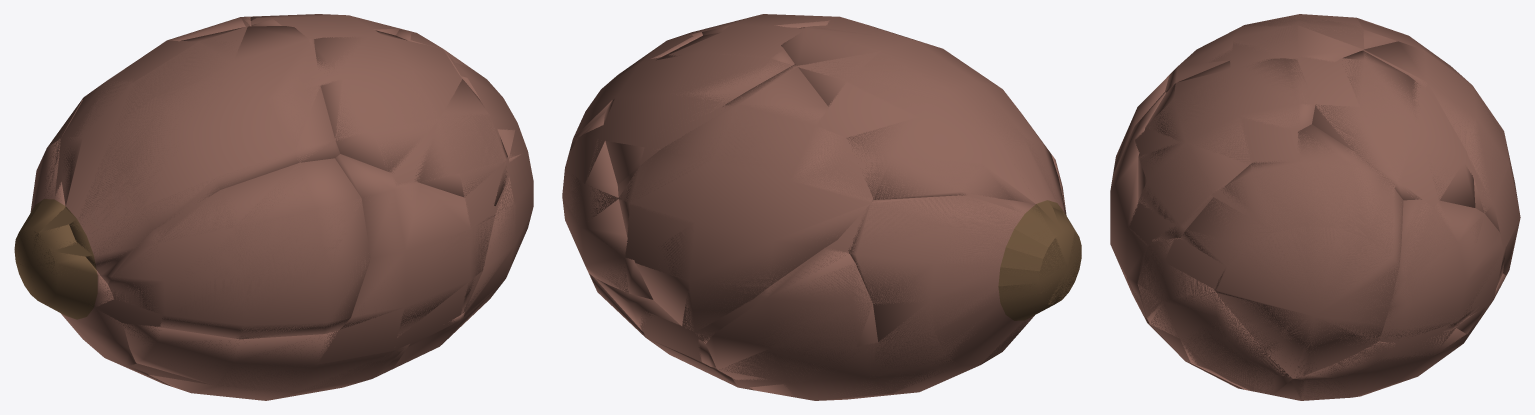
Rendered from kiwi_fractured.fbx.
The picture shows the model from 3 angles, left to right: view 1: azimuth 30°, elevation 25°; view 2: azimuth 150°, elevation 25°; view 3: azimuth 270°, elevation 25°; orthographic projection. The views are drawn at different scales.
Visible parts, largest first — view 1: Sphere001, Sphere001_shard.009, Sphere001_shard.008, Sphere001_shard.001, Sphere001_shard.013, Sphere001_shard.011, Sphere001_shard.006, Sphere001_shard.010, Sphere001_shard, Sphere001_shard.007, Sphere001_shard.004; view 2: Sphere001, Sphere001_shard.004, Sphere001_shard.006, Sphere001_shard.009, Sphere001_shard.014, Sphere001_shard.012, Sphere001_shard.002, Sphere001_shard.003, Sphere001_shard.005, Sphere001_shard.007; view 3: Sphere001, Sphere001_shard.007, Sphere001_shard.013, Sphere001_shard.012, Sphere001_shard.002, Sphere001_shard.010, Sphere001_shard.004, Sphere001_shard.009, Sphere001_shard.005, Sphere001_shard.001, Sphere001_shard.008, Sphere001_shard.003.
Boxes of the visible parts, bbox=[...] form: Sphere001: bbox=[15, 14, 533, 400]; Sphere001_shard.009: bbox=[62, 26, 340, 283]; Sphere001_shard.008: bbox=[108, 158, 370, 338]; Sphere001_shard.001: bbox=[335, 154, 494, 337]; Sphere001_shard.013: bbox=[314, 30, 507, 205]; Sphere001_shard.011: bbox=[123, 323, 409, 400]; Sphere001_shard.006: bbox=[14, 100, 171, 386]; Sphere001_shard.010: bbox=[453, 177, 533, 333]; Sphere001_shard: bbox=[393, 312, 464, 368]; Sphere001_shard.007: bbox=[396, 29, 520, 162]; Sphere001_shard.004: bbox=[84, 17, 251, 97]; Sphere001: bbox=[562, 14, 1081, 400]; Sphere001_shard.004: bbox=[617, 64, 873, 343]; Sphere001_shard.006: bbox=[817, 195, 1081, 400]; Sphere001_shard.009: bbox=[781, 27, 1066, 214]; Sphere001_shard.014: bbox=[706, 248, 878, 397]; Sphere001_shard.012: bbox=[562, 113, 653, 299]; Sphere001_shard.002: bbox=[604, 32, 794, 184]; Sphere001_shard.003: bbox=[594, 277, 715, 367]; Sphere001_shard.005: bbox=[590, 274, 754, 390]; Sphere001_shard.007: bbox=[569, 32, 702, 151]; Sphere001: bbox=[1111, 16, 1520, 400]; Sphere001_shard.007: bbox=[1181, 124, 1403, 378]; Sphere001_shard.013: bbox=[1138, 58, 1315, 241]; Sphere001_shard.012: bbox=[1380, 199, 1506, 342]; Sphere001_shard.002: bbox=[1312, 51, 1475, 207]; Sphere001_shard.010: bbox=[1137, 238, 1292, 395]; Sphere001_shard.004: bbox=[1362, 41, 1520, 275]; Sphere001_shard.009: bbox=[1165, 14, 1398, 92]; Sphere001_shard.005: bbox=[1273, 328, 1466, 400]; Sphere001_shard.001: bbox=[1110, 92, 1166, 316]; Sphere001_shard.008: bbox=[1113, 75, 1169, 174]; Sphere001_shard.003: bbox=[1456, 273, 1505, 334].
Bounding box in the file's own units: 2849 × 1901 × 2187.
